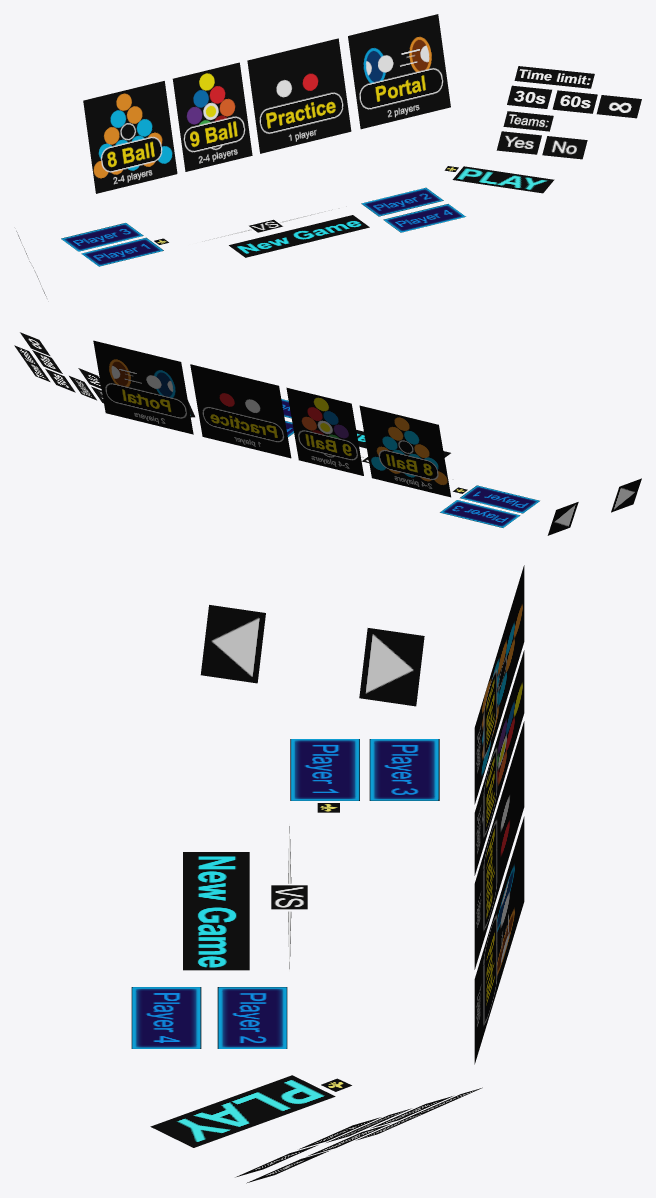
Rendered from game_menu.fbx.
3 renders of one model, top to bottom at view 1: azimuth 30°, elevation 25°; view 2: azimuth 150°, elevation 25°; view 3: azimuth 270°, elevation 25°, orthographic. The views are drawn at different scales.
Parts seen in each view (by area): view 1: gm_practice, gm_portal, gm_8ball, gm_9ball, NEWGAME, START, static_0, JOIN_2, JOIN, JOIN_1, JOIN_3, team_yes (+6 smaller); view 2: gm_practice, gm_portal, gm_8ball, gm_9ball, JOIN, JOIN_2, colour_right, colour_left, static_0; view 3: NEWGAME, START, gm_practice, gm_portal, JOIN_1, JOIN_2, JOIN_3, JOIN, colour_right, colour_left, gm_8ball, gm_9ball (+1 smaller).
Part boxes in pixels (box(x1,y1,x2,y2)): gm_practice: box(247, 38, 351, 153); gm_portal: box(348, 14, 450, 129); gm_8ball: box(83, 81, 177, 193); gm_9ball: box(172, 62, 252, 171); NEWGAME: box(229, 215, 369, 257); START: box(452, 166, 554, 193); static_0: box(514, 66, 594, 88); JOIN_2: box(61, 223, 143, 251); JOIN: box(81, 237, 163, 266); JOIN_1: box(361, 187, 443, 216); JOIN_3: box(383, 204, 465, 232); team_yes: box(496, 131, 541, 154); gm_practice: box(190, 364, 291, 458); gm_portal: box(93, 340, 193, 434); gm_8ball: box(359, 405, 450, 497); gm_9ball: box(286, 387, 363, 475); JOIN: box(460, 485, 539, 513); JOIN_2: box(440, 500, 520, 527); colour_right: box(547, 502, 578, 535); colour_left: box(611, 478, 641, 512); static_0: box(14, 345, 50, 381); NEWGAME: box(183, 852, 249, 970); START: box(150, 1075, 335, 1147); gm_practice: box(474, 721, 524, 969); gm_portal: box(474, 816, 524, 1064); JOIN_1: box(217, 987, 287, 1048); JOIN_2: box(369, 739, 439, 800); JOIN_3: box(131, 987, 201, 1048); JOIN: box(290, 739, 359, 800); colour_right: box(359, 628, 424, 706); colour_left: box(200, 605, 265, 683); gm_8ball: box(474, 565, 524, 804); gm_9ball: box(474, 650, 524, 875).
Size of the model in its own units: 1481 by 259 by 416.
